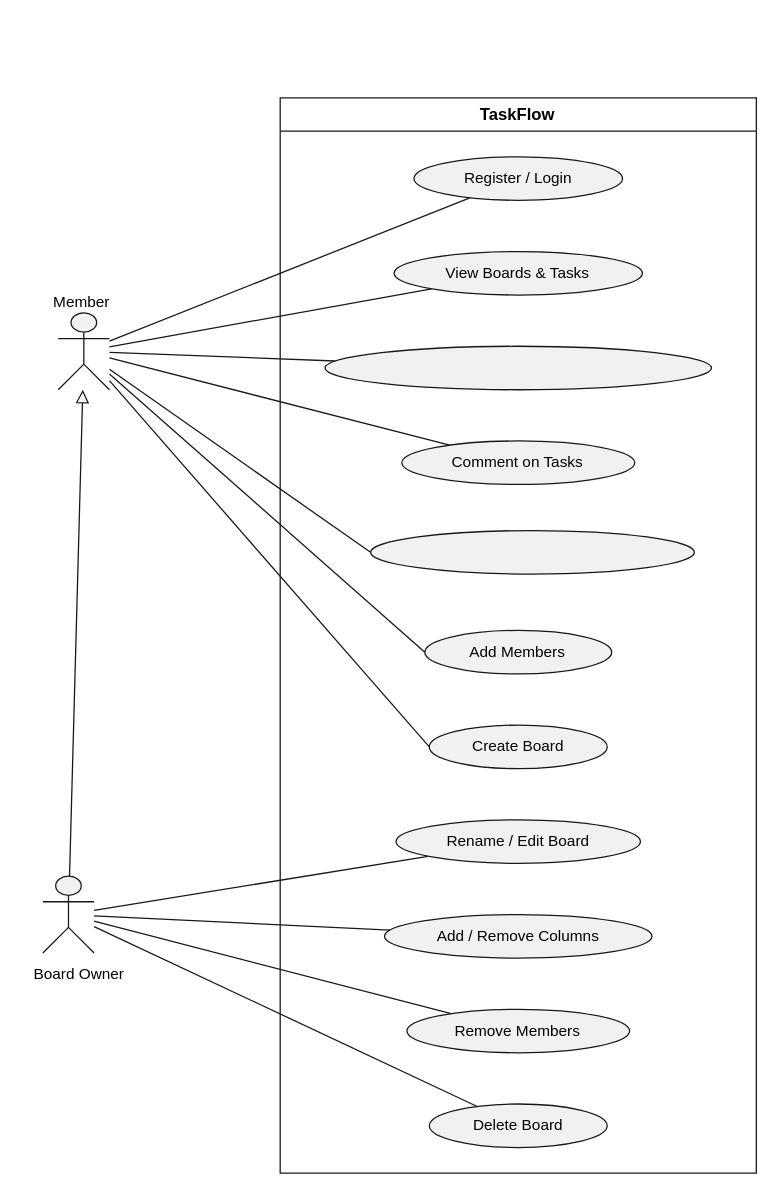
Image size: 778x1196. Some labels were removed from this diagram. Each missing label, with the centre of its shape:
"Create / Edit / Move / Delete Tasks" belongs at (x=518, y=367).
"Upload / Download / Delete Attachments" belongs at (x=531, y=551).
